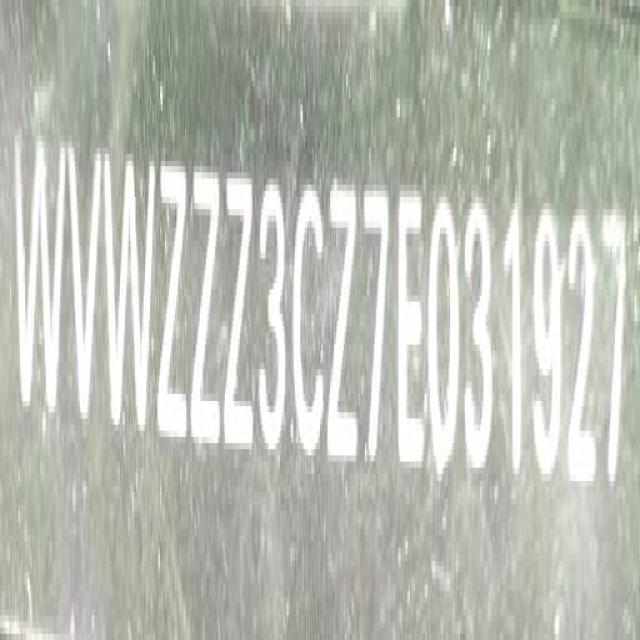0: (428, 188, 459, 484)
1: (503, 197, 527, 488)
2: (566, 206, 598, 497)
3: (462, 193, 494, 484), (257, 171, 288, 466)
7: (365, 172, 394, 479), (604, 202, 630, 495)
9: (531, 202, 563, 488)
C: (291, 178, 327, 451)
E: (397, 178, 429, 482)
V: (66, 139, 104, 426)
W: (14, 130, 66, 410), (110, 146, 156, 449)
Z: (156, 150, 188, 442), (192, 154, 222, 458), (329, 168, 357, 480), (224, 157, 252, 465)
